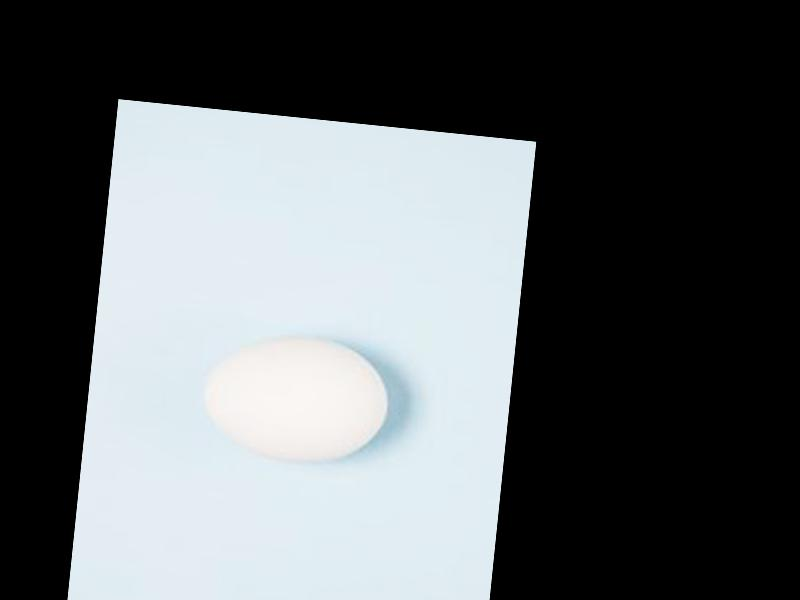Eggs: (195, 329, 393, 471)
